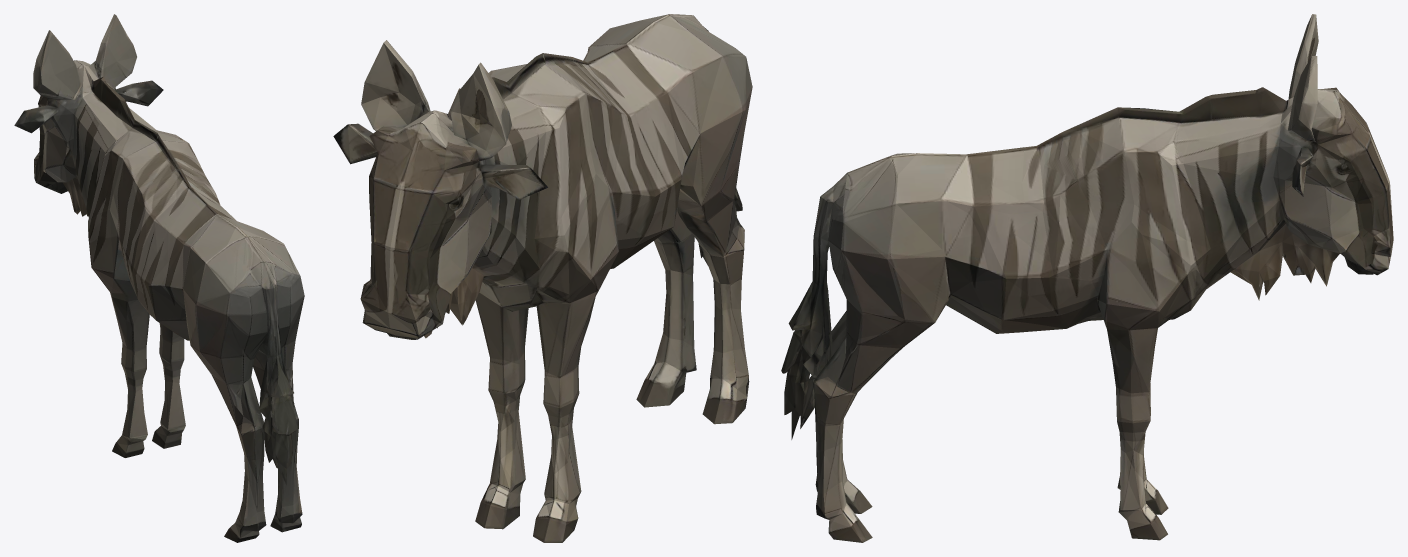
Rendered from Gnu.glb.
The picture shows the model from 3 angles, left to right: view 1: azimuth 30°, elevation 25°; view 2: azimuth 150°, elevation 25°; view 3: azimuth 270°, elevation 25°; orthographic projection. The views are drawn at different scales.
Visible parts, largest first — view 1: tripo_node_6d7ba0a9-822d-4550-8a08-9d3637f39260; view 2: tripo_node_6d7ba0a9-822d-4550-8a08-9d3637f39260; view 3: tripo_node_6d7ba0a9-822d-4550-8a08-9d3637f39260.
Boxes of the visible parts, bbox=[...] form: tripo_node_6d7ba0a9-822d-4550-8a08-9d3637f39260: bbox=[14, 14, 304, 542]; tripo_node_6d7ba0a9-822d-4550-8a08-9d3637f39260: bbox=[333, 14, 752, 542]; tripo_node_6d7ba0a9-822d-4550-8a08-9d3637f39260: bbox=[781, 14, 1393, 542].
Bounding box in the file's own units: 0.3627 × 0.8775 × 0.9981.
Materials: 1 (1 with a texture image).
